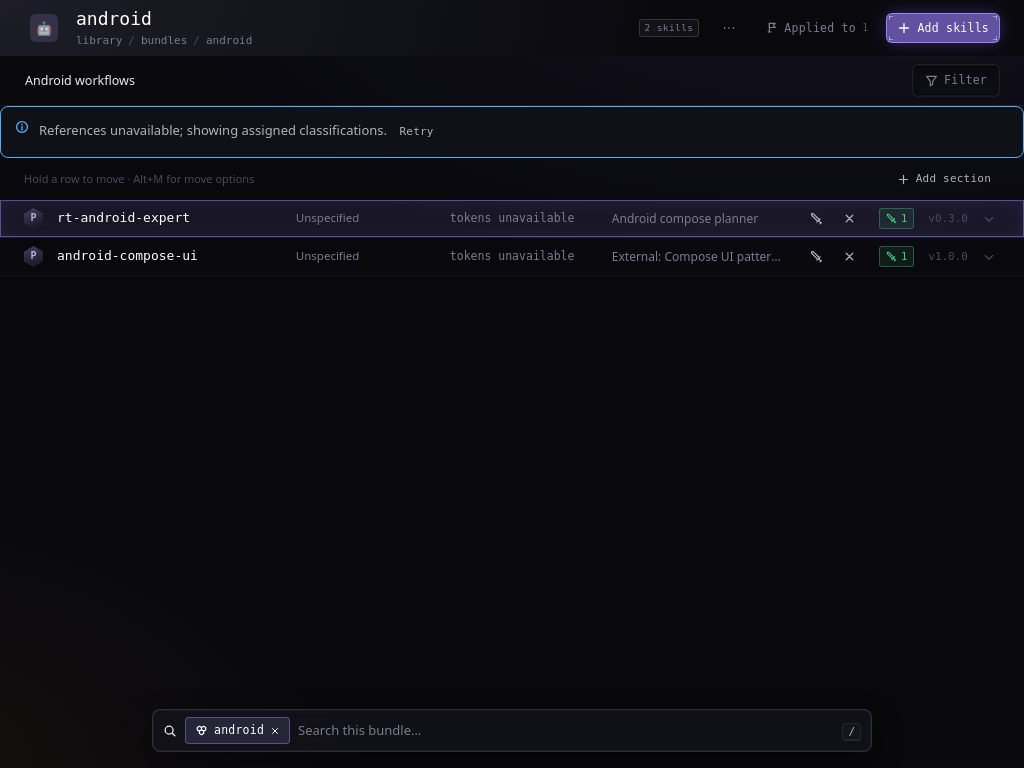
Test case: destructive actions keep their ConfirmDialog › delete-bundle still opens a confirmation (no undo-only path)
# Delete lives in the header overflow now, not a bare danger-zone button.
Click the button with test id "overflow-trigger": (729, 28) [711,14,747,42]
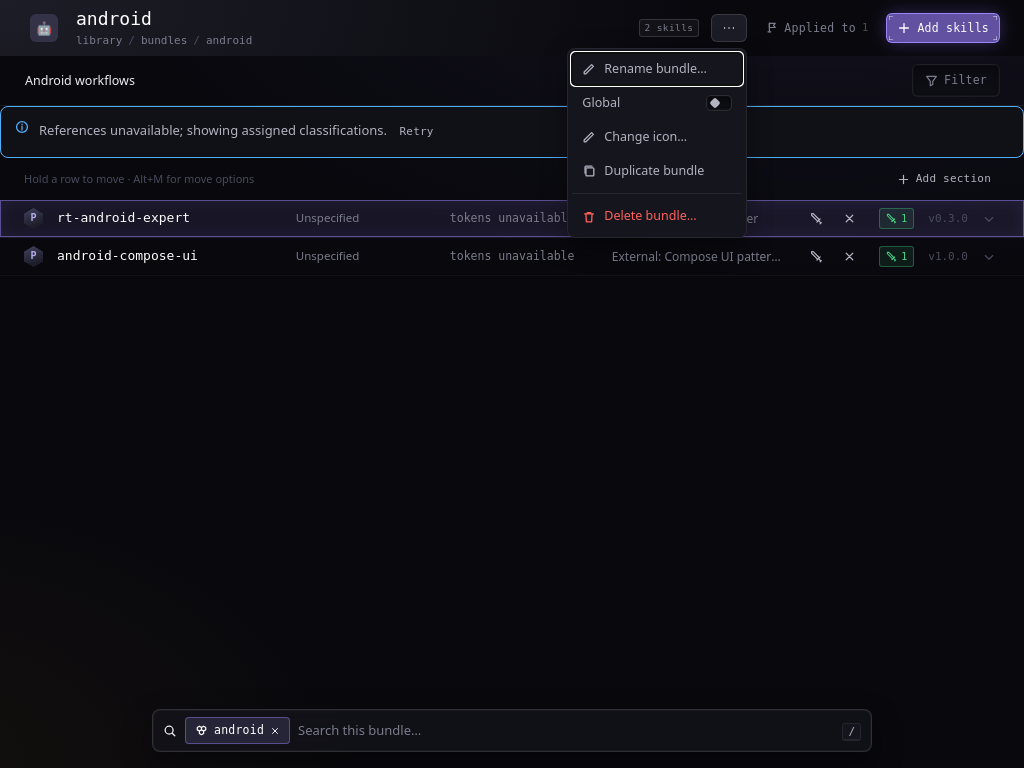
Click the menu item "Delete bundle…": (657, 217) [572,200,742,233]
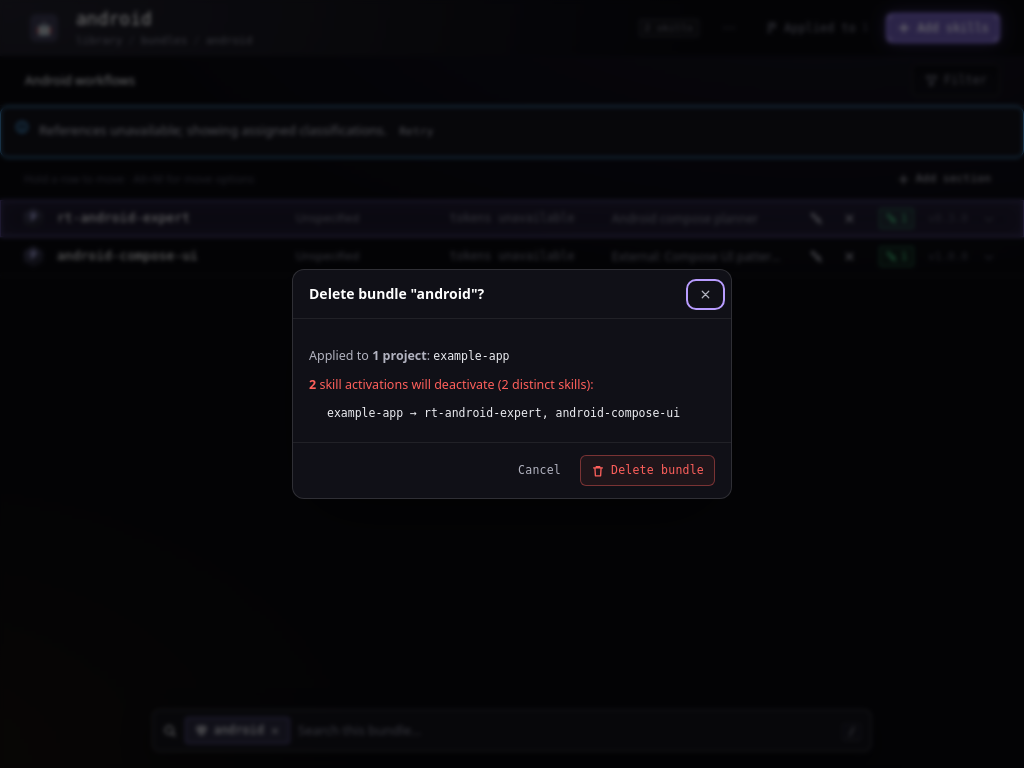
Expected: the text "Delete bundle \"android\"?" is shown, [309,284,484,303]
